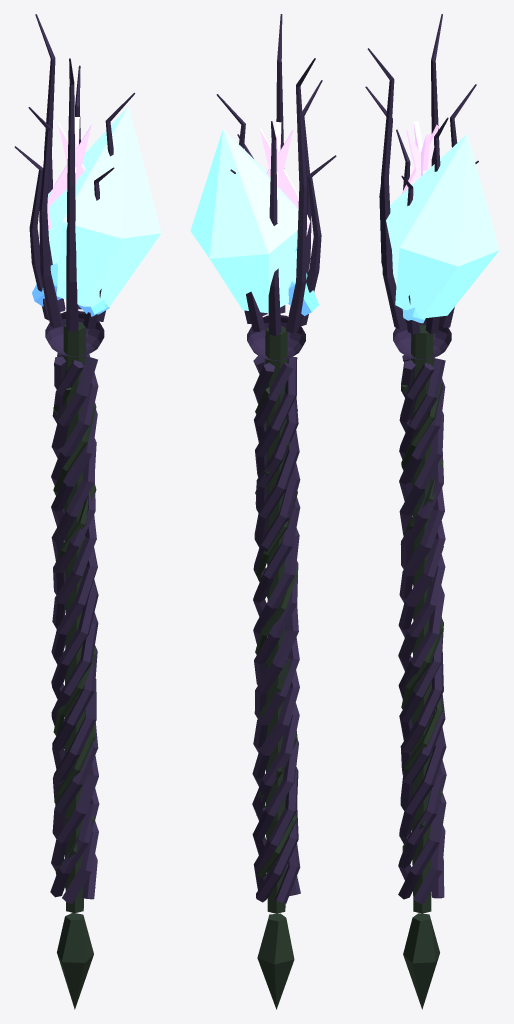
File: staff_vinecrystal.glb
3 views of the same model, side by side, from view 1: azimuth 30°, elevation 25°; view 2: azimuth 210°, elevation 25°; view 3: azimuth 330°, elevation 25° (orthographic).
Parts seen in each view (by area): view 1: Vn_Crystal, Vn_Vine4, Vn_Vine2, Vn_Vine1, Vn_Vine3, Vn_Vine0, Vn_Core, Vn_Tendril5, Vn_Butt, Vn_Tendril4, Vn_Dark1, Vn_Dark0 (+6 smaller); view 2: Vn_Crystal, Vn_Vine1, Vn_Vine4, Vn_Vine2, Vn_Vine0, Vn_Vine3, Vn_Core, Vn_Tendril2, Vn_Butt, Vn_Tendril1, Vn_Dark0, Vn_Tendril3 (+7 smaller); view 3: Vn_Crystal, Vn_Vine4, Vn_Vine1, Vn_Vine3, Vn_Vine2, Vn_Vine0, Vn_Core, Vn_Tendril5, Vn_Butt, Vn_Dark0, Vn_Dark1, Vn_Knot (+5 smaller).
Part boxes in pixels (left/top/right/bottom): Vn_Crystal: left=47, top=106, right=161, bottom=307; Vn_Vine4: left=51, top=356, right=97, bottom=899; Vn_Vine2: left=50, top=356, right=99, bottom=897; Vn_Vine1: left=51, top=353, right=98, bottom=888; Vn_Vine3: left=52, top=360, right=98, bottom=903; Vn_Vine0: left=51, top=354, right=98, bottom=887; Vn_Core: left=63, top=322, right=86, bottom=913; Vn_Tendril5: left=66, top=58, right=78, bottom=331; Vn_Butt: left=57, top=912, right=93, bottom=1009; Vn_Tendril4: left=28, top=107, right=62, bottom=328; Vn_Dark1: left=53, top=387, right=96, bottom=874; Vn_Dark0: left=53, top=403, right=96, bottom=805; Vn_Crystal: left=190, top=129, right=308, bottom=313; Vn_Vine1: left=252, top=363, right=300, bottom=903; Vn_Vine4: left=253, top=355, right=299, bottom=889; Vn_Vine2: left=252, top=357, right=300, bottom=895; Vn_Vine0: left=253, top=363, right=300, bottom=902; Vn_Vine3: left=252, top=396, right=298, bottom=854; Vn_Core: left=265, top=326, right=287, bottom=913; Vn_Tendril2: left=286, top=58, right=315, bottom=333; Vn_Butt: left=257, top=913, right=294, bottom=1009; Vn_Tendril1: left=268, top=121, right=281, bottom=335; Vn_Dark0: left=255, top=387, right=297, bottom=877; Vn_Tendril3: left=299, top=155, right=336, bottom=326; Vn_Crystal: left=386, top=134, right=499, bottom=318; Vn_Vine4: left=399, top=363, right=445, bottom=904; Vn_Vine1: left=398, top=357, right=446, bottom=891; Vn_Vine3: left=398, top=360, right=446, bottom=899; Vn_Vine2: left=398, top=355, right=446, bottom=880; Vn_Vine0: left=398, top=358, right=445, bottom=898; Vn_Core: left=411, top=325, right=433, bottom=913; Vn_Tendril5: left=367, top=48, right=406, bottom=328; Vn_Butt: left=403, top=913, right=439, bottom=1009; Vn_Dark0: left=401, top=382, right=443, bottom=874; Vn_Dark1: left=400, top=384, right=443, bottom=852; Vn_Knot: left=393, top=318, right=451, bottom=359.
Bounding box in the file's own units: 0.3343 × 2.51 × 0.3011.
